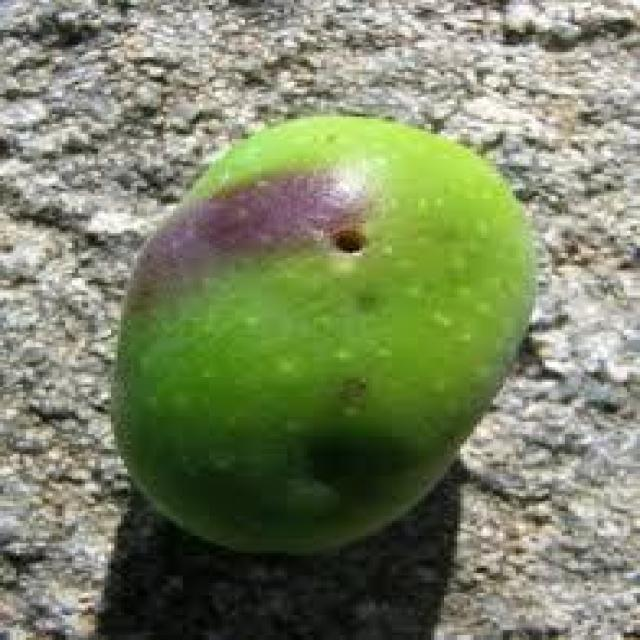Olive Fruit Fly: (111, 117, 532, 548)
